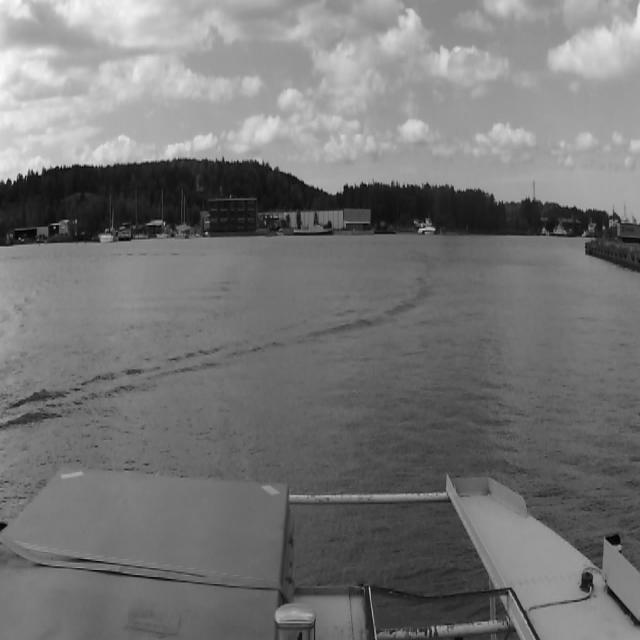ship: (98, 195, 116, 246), (156, 188, 169, 240), (126, 185, 138, 235), (177, 193, 189, 234), (292, 225, 334, 235), (417, 222, 435, 236)
